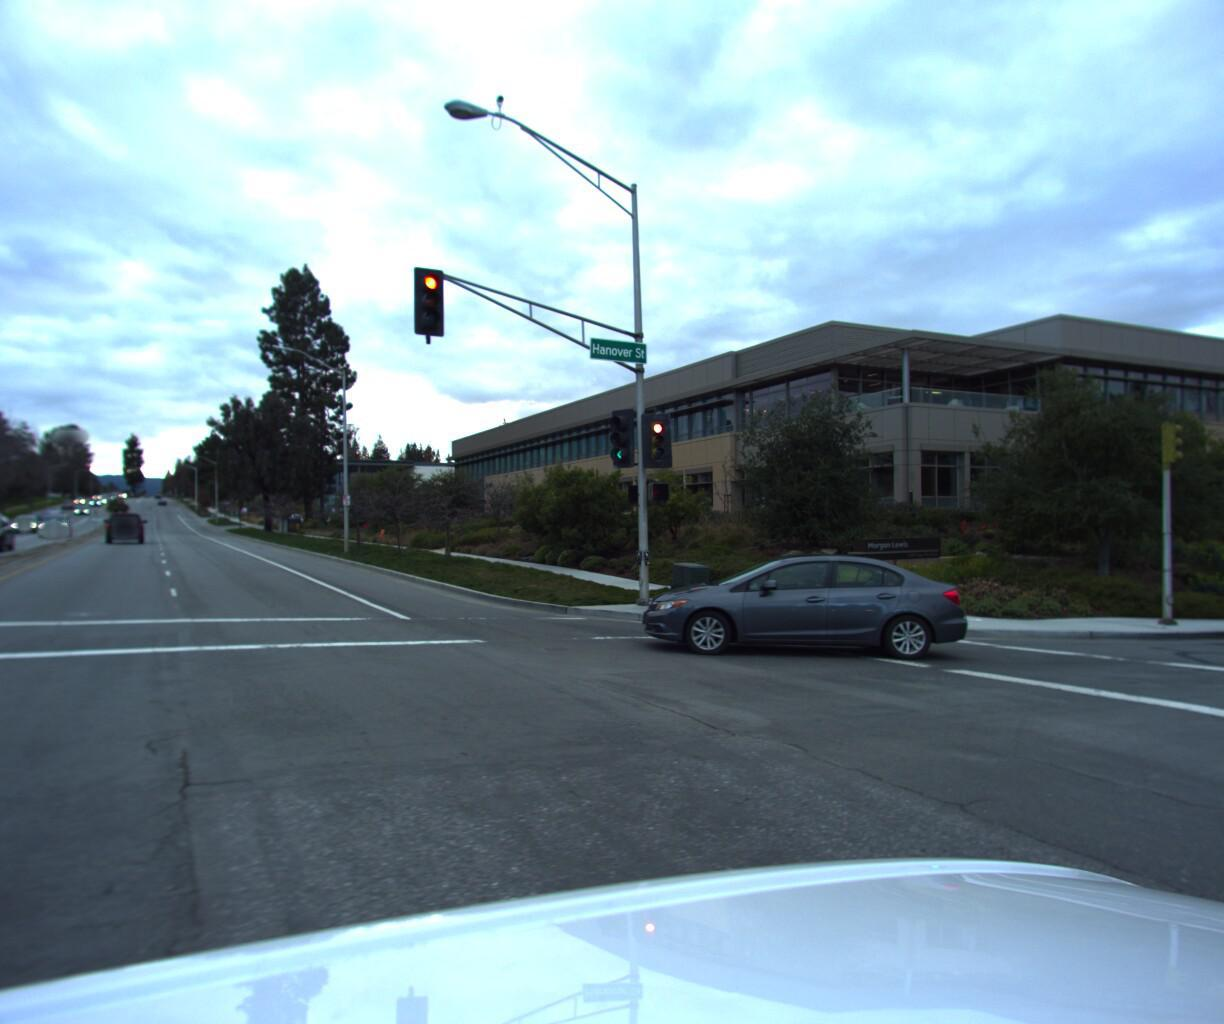car: (639, 543, 971, 664), (1209, 543, 1224, 661), (109, 509, 150, 543), (0, 513, 30, 553), (45, 514, 78, 534), (14, 515, 46, 532), (0, 514, 5, 564)
